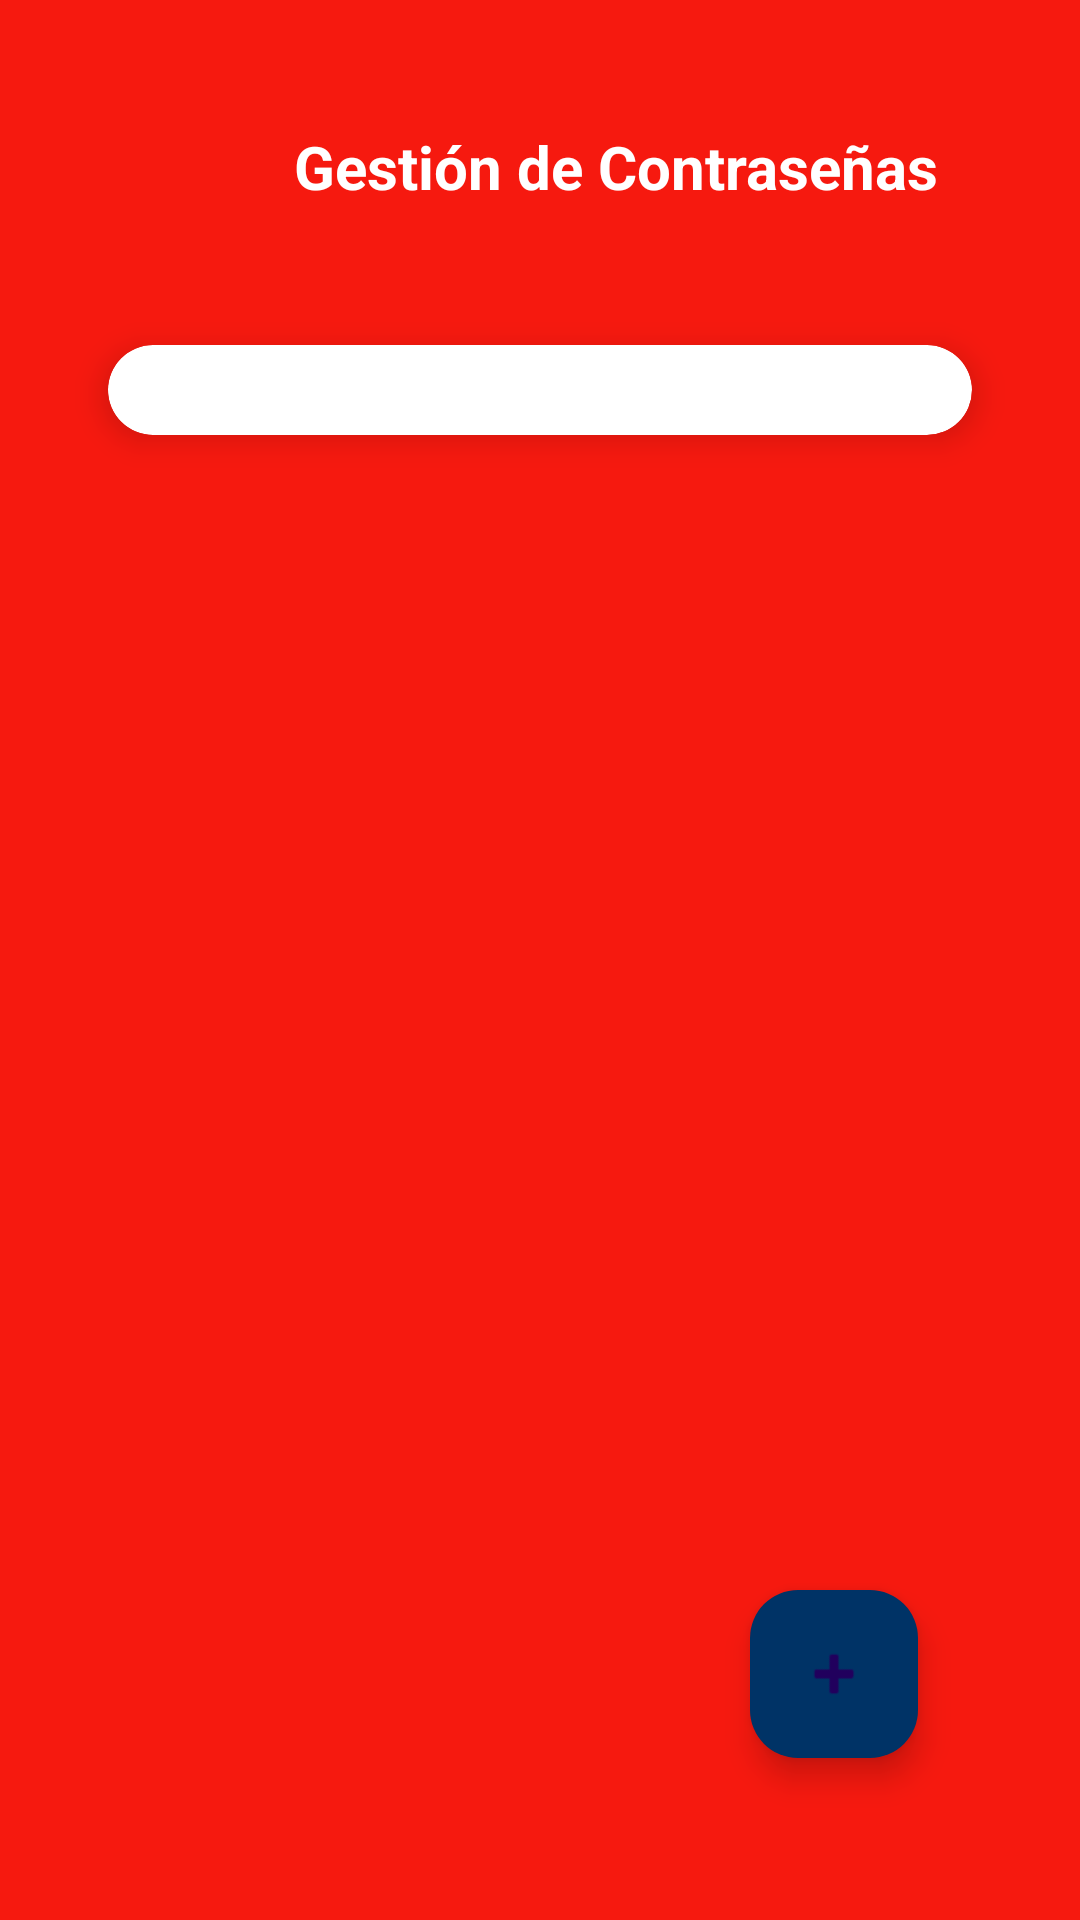

Icon bounding boxes for this 1080×1920 phone screenshot, format rect(x1, y1, x2, y2):
add: rect(750, 1590, 918, 1758)
